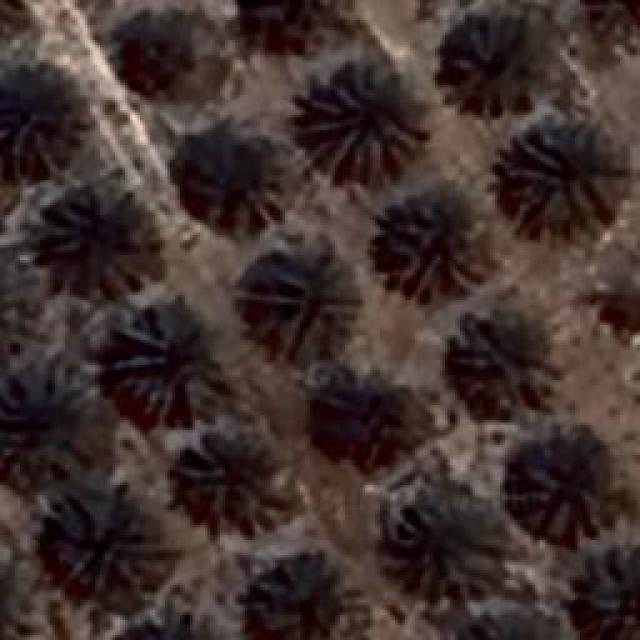PalmTree: (45, 21, 611, 124), (298, 60, 430, 180), (245, 240, 360, 365), (110, 302, 222, 422), (378, 190, 500, 298), (40, 188, 155, 302), (510, 125, 625, 233), (450, 312, 562, 412), (52, 490, 160, 590), (316, 375, 436, 465), (516, 428, 616, 536), (180, 126, 290, 224), (0, 374, 95, 484), (185, 424, 280, 528), (400, 502, 502, 598), (440, 20, 535, 115), (113, 2, 210, 92), (260, 555, 362, 640), (584, 545, 638, 635), (239, 0, 344, 46), (583, 264, 640, 338), (0, 252, 31, 360), (114, 612, 228, 640), (454, 614, 562, 640), (0, 558, 31, 640), (112, 621, 228, 640), (453, 621, 561, 640), (0, 0, 25, 47)
